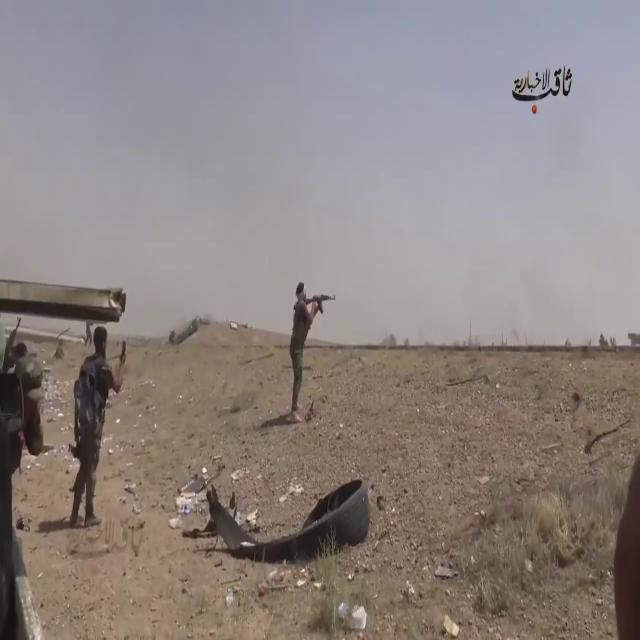long weapon: (309, 290, 340, 321)
